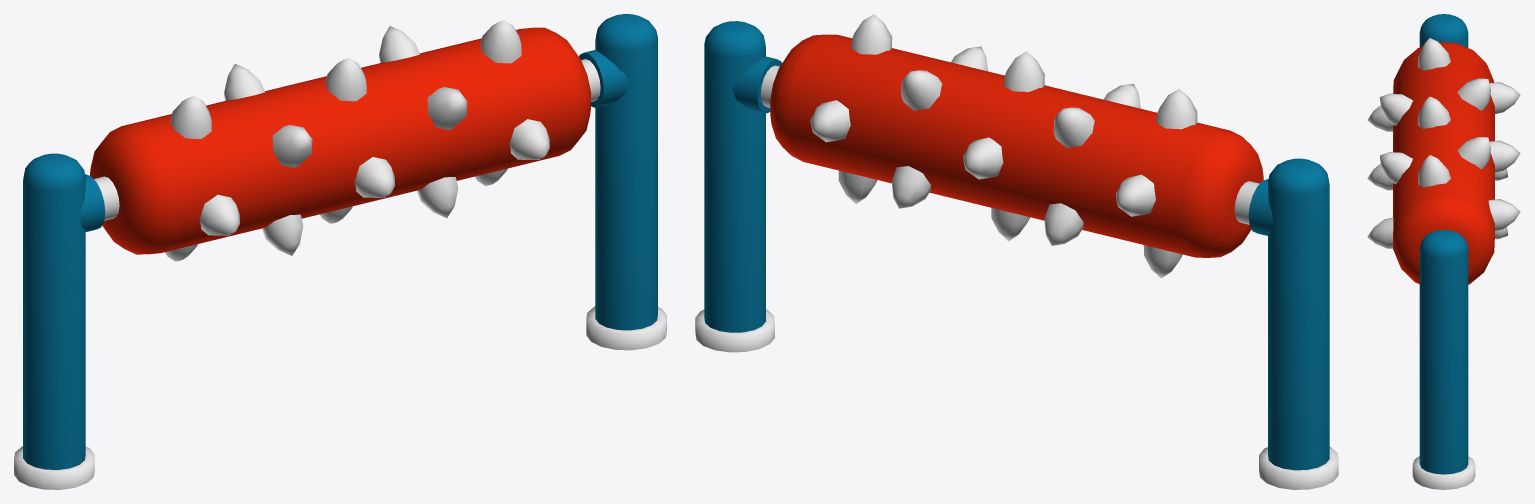
The model's file is Obs_1.fbx.
3 views of the same model, side by side, from view 1: azimuth 30°, elevation 25°; view 2: azimuth 150°, elevation 25°; view 3: azimuth 270°, elevation 25° (orthographic). The views are drawn at different scales.
Visible parts, largest first — view 1: Obs_1; view 2: Obs_1; view 3: Obs_1.
Boxes of the visible parts, box(x1,y1,x2,y2) form: Obs_1: box(14, 14, 666, 489); Obs_1: box(695, 14, 1338, 489); Obs_1: box(1367, 14, 1520, 489).
Bounding box in the file's own units: 267 × 140 × 71.43.
